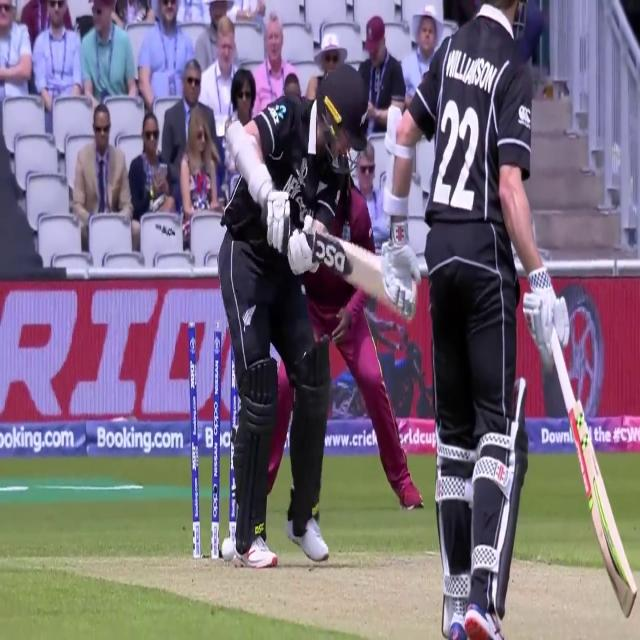ball: (222, 538, 236, 564)
